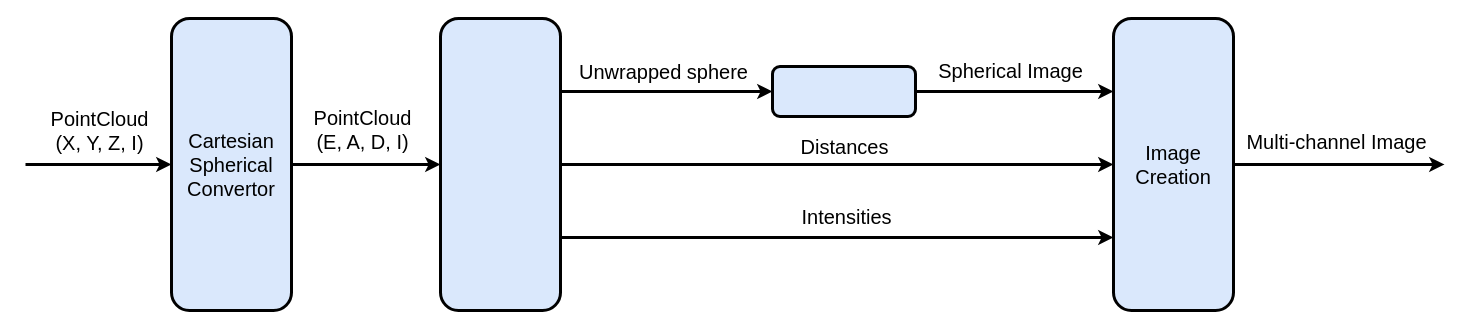
Some shapes in this 1471 by 329 pixel diagram are drawn without their labels. The box of each missing label's shape, as (x1, y1, x2, y2) in pixels:
Normalization: (770, 64, 916, 118)
Unwrapping: (438, 16, 562, 312)
